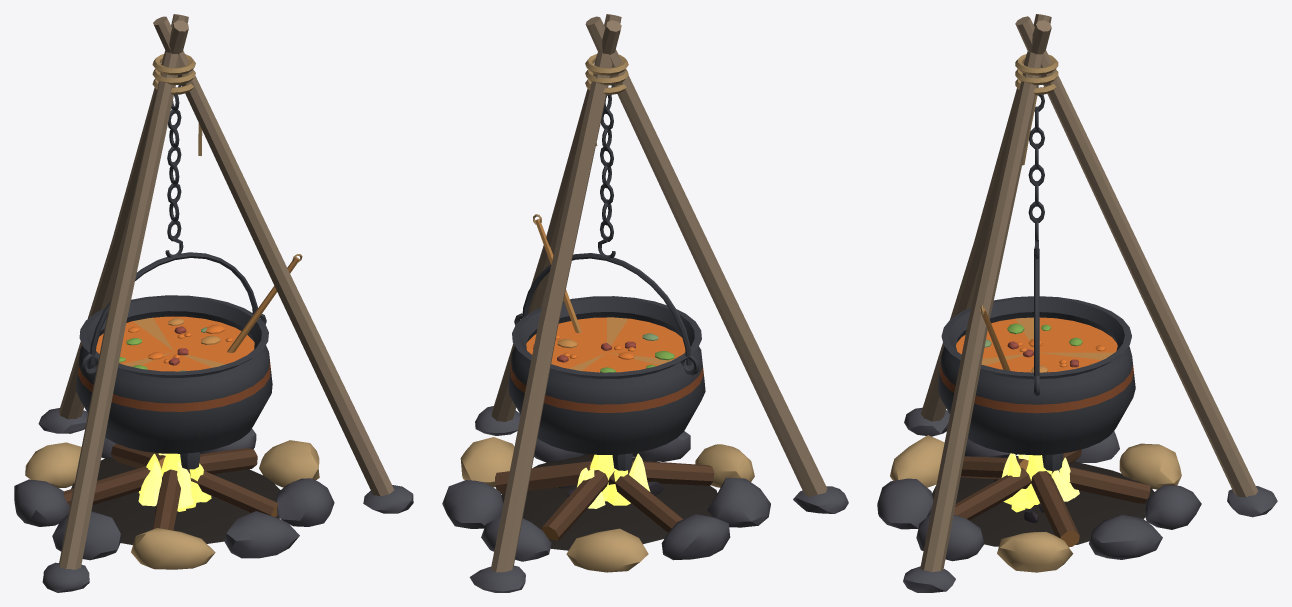
The model's file is deco_cauldron.fbx.
3 renders of one model, left to right at view 1: azimuth 30°, elevation 25°; view 2: azimuth 150°, elevation 25°; view 3: azimuth 270°, elevation 25°, orthographic.
Visible parts, largest first — view 1: Cauldron_Fire, Cauldron_Tripod, Cauldron_Pot, Cauldron_Soup, Cauldron_Chain, Cauldron_Ladle; view 2: Cauldron_Fire, Cauldron_Tripod, Cauldron_Pot, Cauldron_Soup, Cauldron_Chain, Cauldron_Ladle; view 3: Cauldron_Fire, Cauldron_Tripod, Cauldron_Pot, Cauldron_Soup, Cauldron_Chain.
Part boxes in pixels (x1,y1,x2,y2): Cauldron_Fire: (14,428,334,569); Cauldron_Tripod: (38,14,413,592); Cauldron_Pot: (76,252,272,469); Cauldron_Soup: (96,316,254,371); Cauldron_Chain: (165,94,183,257); Cauldron_Ladle: (227,254,302,352); Cauldron_Fire: (442,431,770,572); Cauldron_Tripod: (469,14,848,592); Cauldron_Pot: (508,253,705,470); Cauldron_Soup: (526,317,685,372); Cauldron_Chain: (598,95,615,258); Cauldron_Ladle: (533,214,581,333); Cauldron_Fire: (877,431,1201,572); Cauldron_Tripod: (903,14,1277,592); Cauldron_Pot: (938,248,1135,470); Cauldron_Soup: (956,317,1117,372); Cauldron_Chain: (1028,94,1044,259).
Bounding box in the file's own units: 233 × 302 × 223.
